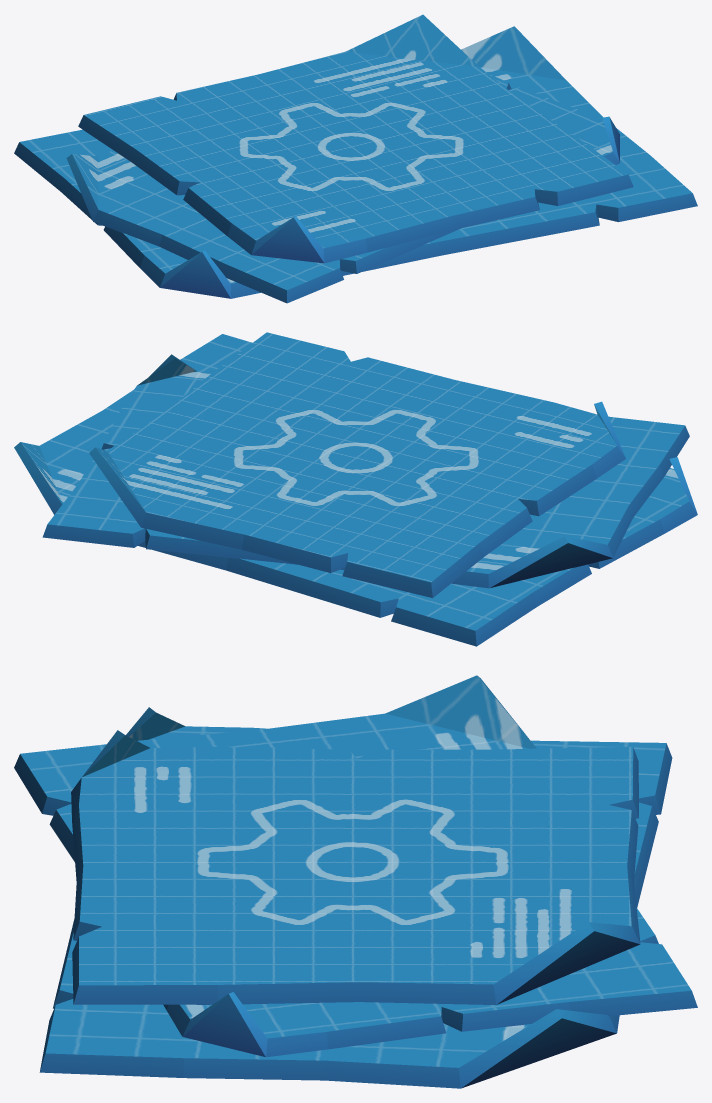
File: blueprint_stacked.obj
3 views of the same model, one above another, from view 1: azimuth 30°, elevation 25°; view 2: azimuth 150°, elevation 25°; view 3: azimuth 270°, elevation 25° (orthographic). The views are drawn at different scales.
Visible parts, largest first — view 1: blueprint_stacked; view 2: blueprint_stacked; view 3: blueprint_stacked.
Part boxes in pixels (x1,y1,x2,y2): blueprint_stacked: [14, 14, 697, 303]; blueprint_stacked: [14, 332, 697, 646]; blueprint_stacked: [14, 675, 697, 1088].
Size of the model in its own units: 2.12 by 0.2712 by 1.75.
Materials: 2 (2 with a texture image).
